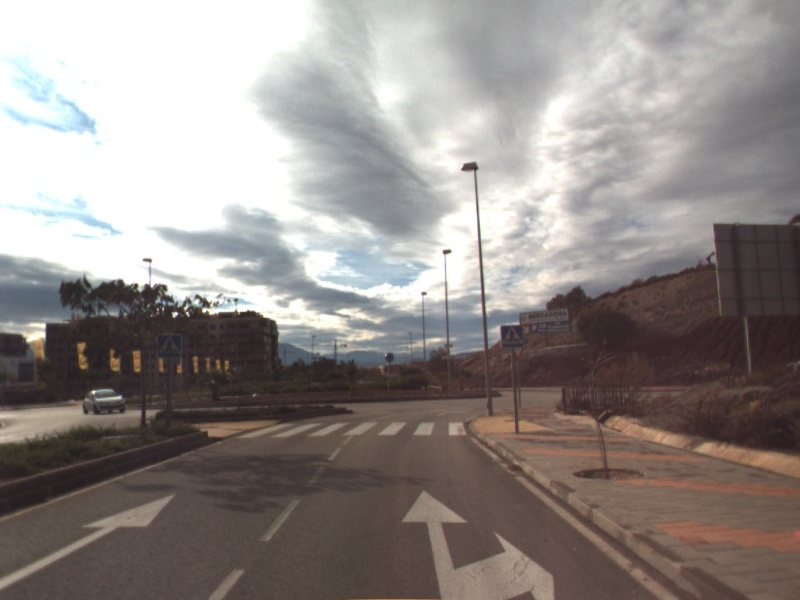STRAIGHT: (1, 491, 179, 591)
STRAIGHT_RIGHT: (399, 488, 558, 600)
